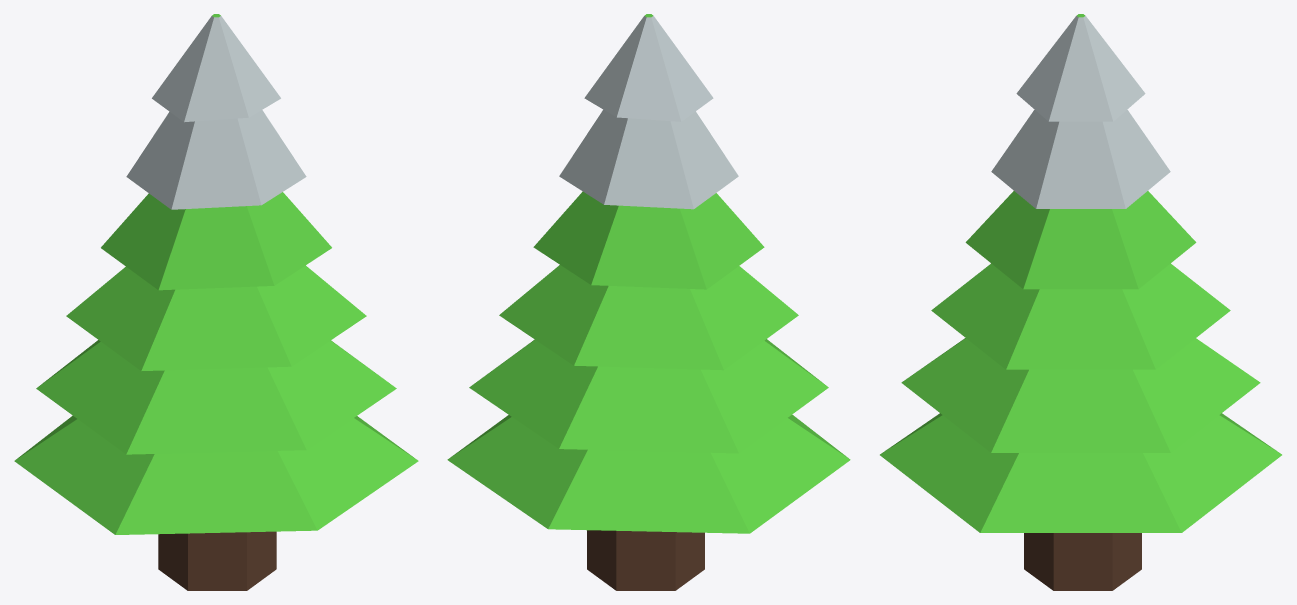
File: sapin.fbx
3 views of the same model, side by side, from view 1: azimuth 30°, elevation 25°; view 2: azimuth 150°, elevation 25°; view 3: azimuth 270°, elevation 25° (orthographic).
Parts seen in each view (by area): view 1: Cylinder, Cylinder.001; view 2: Cylinder, Cylinder.001; view 3: Cylinder, Cylinder.001.
Part boxes in pixels (x1,y1,x2,y2): Cylinder: (14,14,418,534); Cylinder.001: (158,531,276,590); Cylinder: (447,14,850,533); Cylinder.001: (587,530,704,590); Cylinder: (880,14,1281,532); Cylinder.001: (1024,533,1141,590).
Size of the model in its own units: 213 by 372 by 246.
